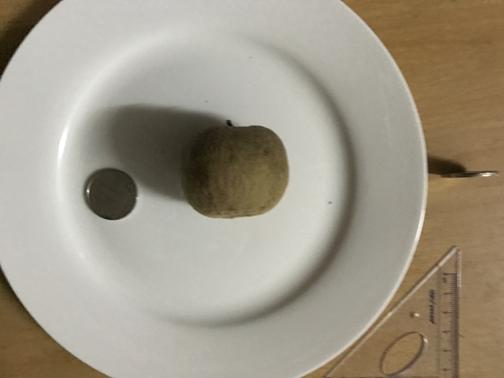coin: (82, 166, 137, 219)
qiwi: (185, 120, 288, 220)
